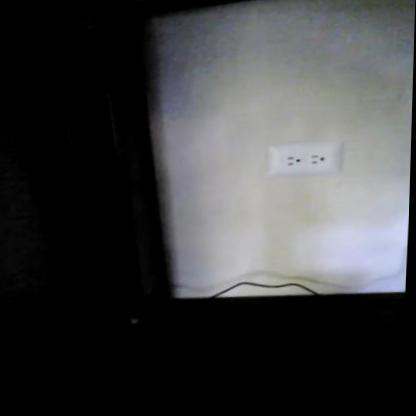OUTLET: (264, 142, 341, 177)
